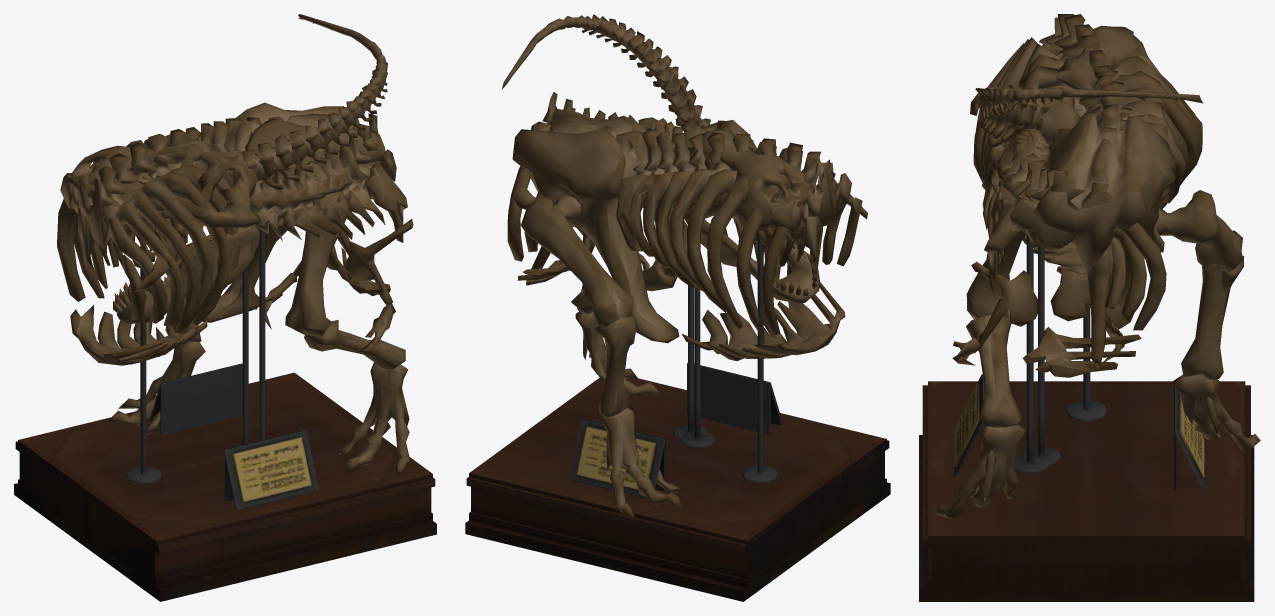
Rendered from fossil-t-rex.glb.
3 renders of one model, left to right at view 1: azimuth 30°, elevation 25°; view 2: azimuth 150°, elevation 25°; view 3: azimuth 270°, elevation 25°, orthographic. The views are drawn at different scales.
Visible parts, largest first — view 1: mFossilBaseEnd (×2), mFtrFossilTRexB, mFossilBaseMiddle, mFtrFossilTRexA, mFtrFossilTRexC; view 2: mFtrFossilTRexB, mFossilBaseEnd (×2), mFossilBaseMiddle, mFtrFossilTRexA, mFtrFossilTRexC; view 3: mFossilBaseEnd (×2), mFtrFossilTRexB, mFossilBaseMiddle, mFtrFossilTRexA, mFtrFossilTRexC.
Part boxes in pixels (x1,y1,x2,y2): mFossilBaseEnd (×2): [14, 229, 436, 601]; mFtrFossilTRexB: [57, 102, 410, 476]; mFossilBaseMiddle: [14, 244, 436, 601]; mFtrFossilTRexA: [67, 113, 413, 352]; mFtrFossilTRexC: [60, 14, 387, 270]; mFtrFossilTRexB: [512, 109, 867, 517]; mFossilBaseEnd (×2): [465, 285, 889, 601]; mFossilBaseMiddle: [465, 229, 890, 601]; mFtrFossilTRexA: [507, 92, 820, 311]; mFtrFossilTRexC: [501, 14, 838, 267]; mFossilBaseEnd (×2): [919, 235, 1254, 601]; mFtrFossilTRexB: [936, 14, 1260, 518]; mFossilBaseMiddle: [919, 303, 1254, 601]; mFtrFossilTRexA: [952, 25, 1166, 377]; mFtrFossilTRexC: [975, 35, 1203, 144].
Bounding box in the file's own units: 20.27 × 30.86 × 18.69.
6 materials, 6 textured.
